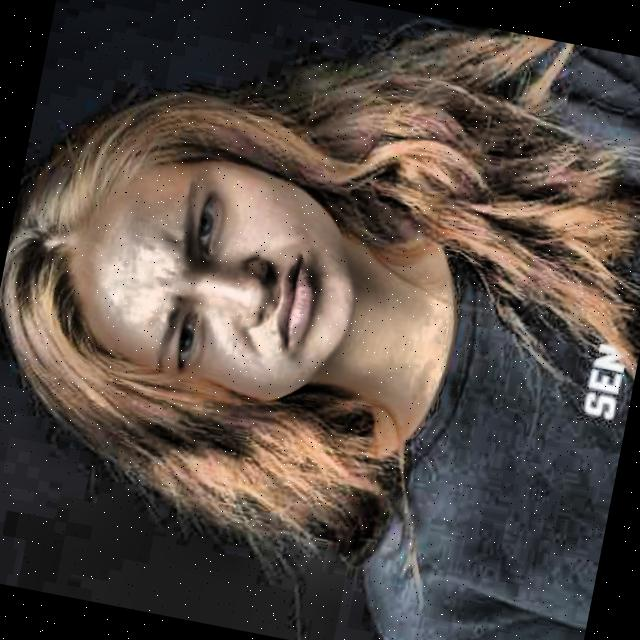angry: (0, 4, 424, 492)
